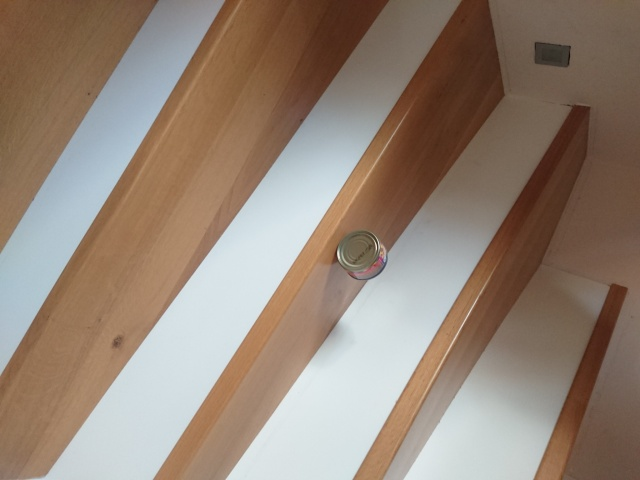Giana Tuna Salad Mexico 185g: (334, 228, 390, 282)
